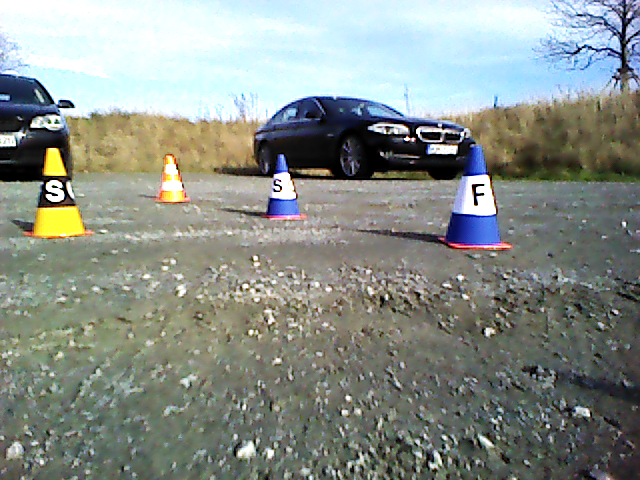bluecone: (452, 146, 500, 244), (267, 154, 299, 215)
orangeconesmall: (157, 154, 188, 202)
yellowcone: (33, 148, 82, 234)
